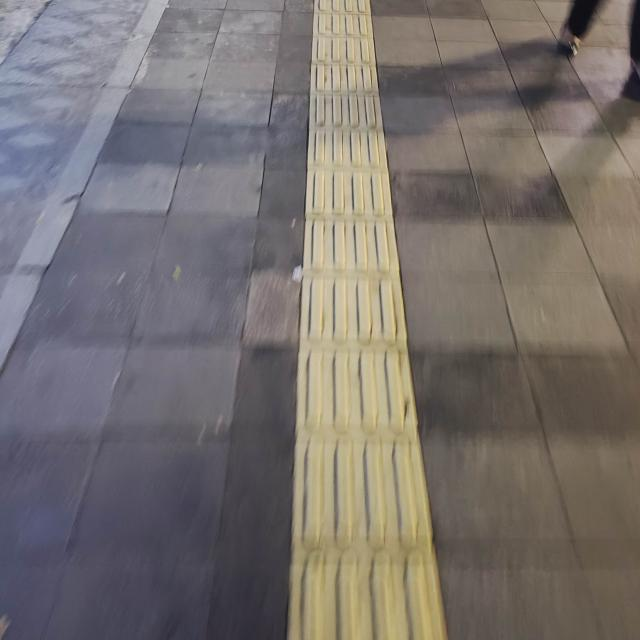lurus: (268, 0, 430, 640)
